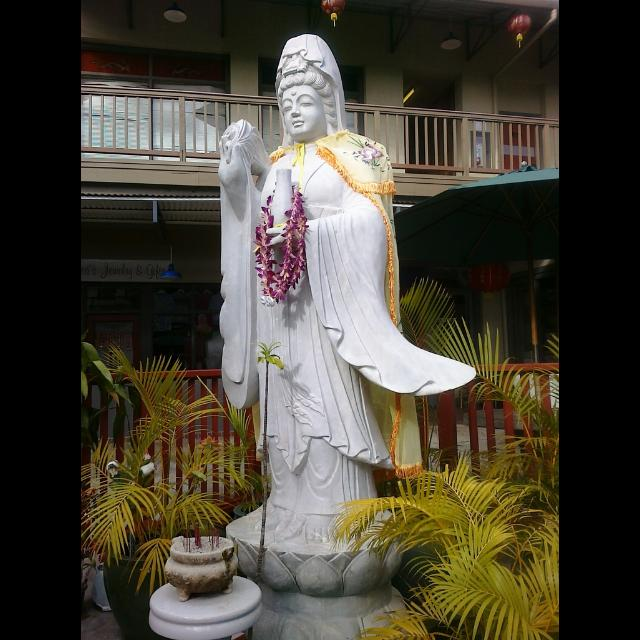Flower: (252, 185, 308, 302), (359, 144, 385, 162), (199, 436, 219, 450), (260, 298, 276, 308)
